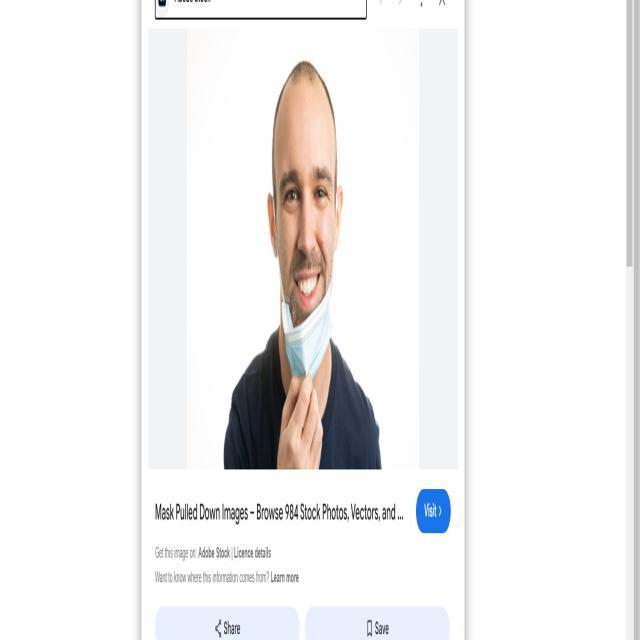face_no_mask: (267, 104, 342, 344)
